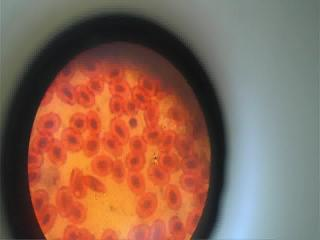cell: (61, 128, 84, 152), (134, 196, 162, 215), (146, 163, 170, 185), (76, 85, 96, 111), (126, 149, 148, 172), (168, 215, 188, 240), (106, 62, 132, 81), (104, 133, 125, 156), (161, 150, 184, 171), (128, 172, 149, 194), (138, 72, 160, 92), (110, 118, 132, 138), (57, 187, 72, 216), (144, 128, 168, 146), (181, 174, 205, 192), (58, 83, 77, 105), (38, 114, 64, 130), (72, 171, 88, 197), (40, 210, 59, 231), (149, 217, 166, 240), (68, 112, 87, 132), (133, 86, 151, 107), (166, 185, 182, 208), (93, 156, 112, 175), (30, 190, 50, 208), (128, 136, 148, 154), (34, 134, 54, 151), (80, 59, 102, 74), (61, 63, 79, 81), (90, 78, 108, 96), (50, 142, 66, 162), (128, 224, 148, 240), (186, 157, 208, 171), (108, 96, 124, 115), (86, 114, 102, 133), (84, 138, 102, 154), (111, 83, 132, 96), (27, 150, 43, 166), (26, 169, 43, 184), (126, 99, 140, 117)
